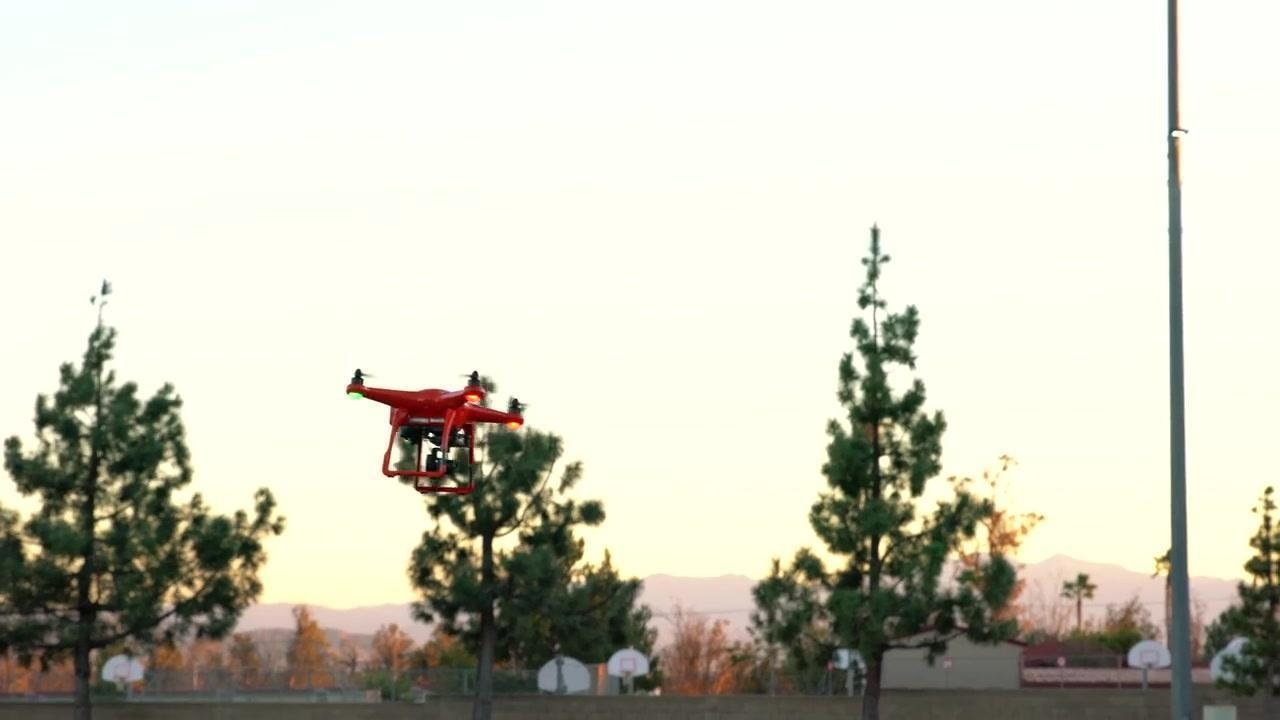UAV: (346, 367, 526, 499)
